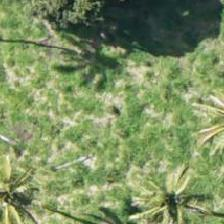coconut_tree: (118, 152, 208, 223), (0, 147, 51, 223)
